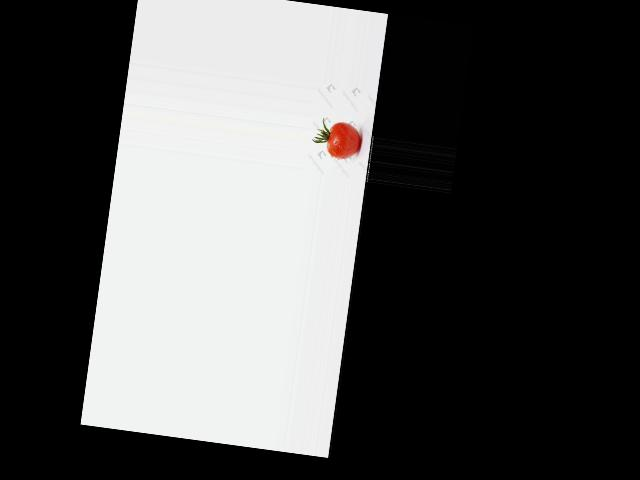tomato: (326, 120, 363, 160)
